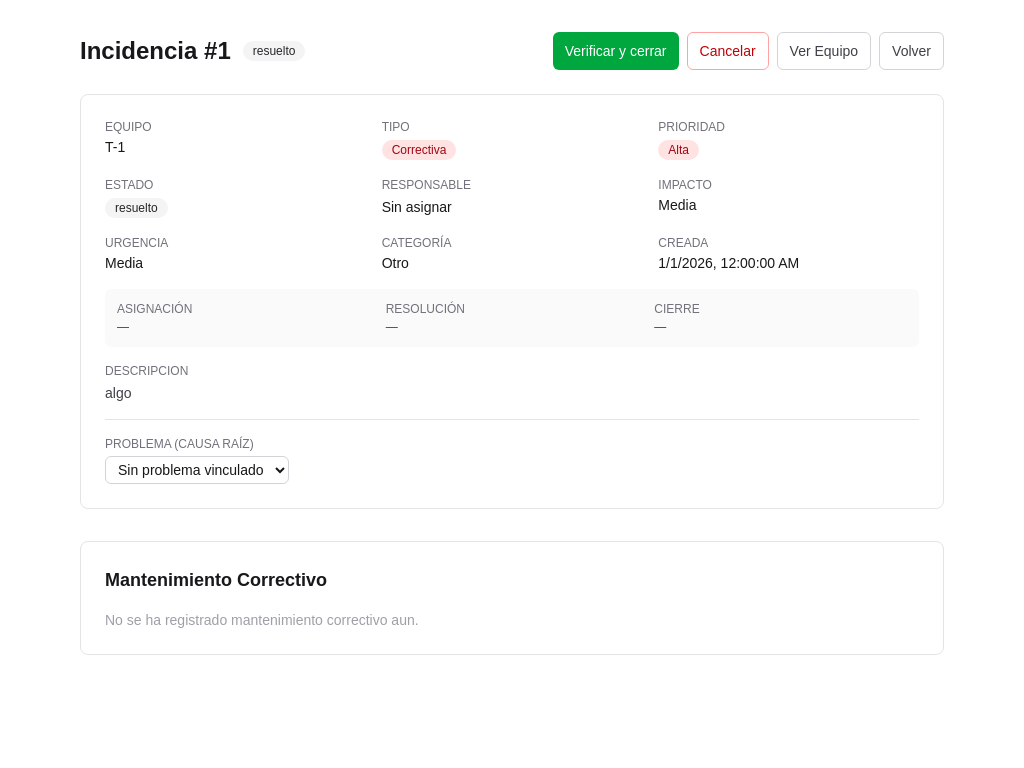
Test: IncidenciaDetailPage › surfaces an error message when cerrar fails
Click the button "Verificar y cerrar": {"x": 616, "y": 51} [553, 32, 678, 70]
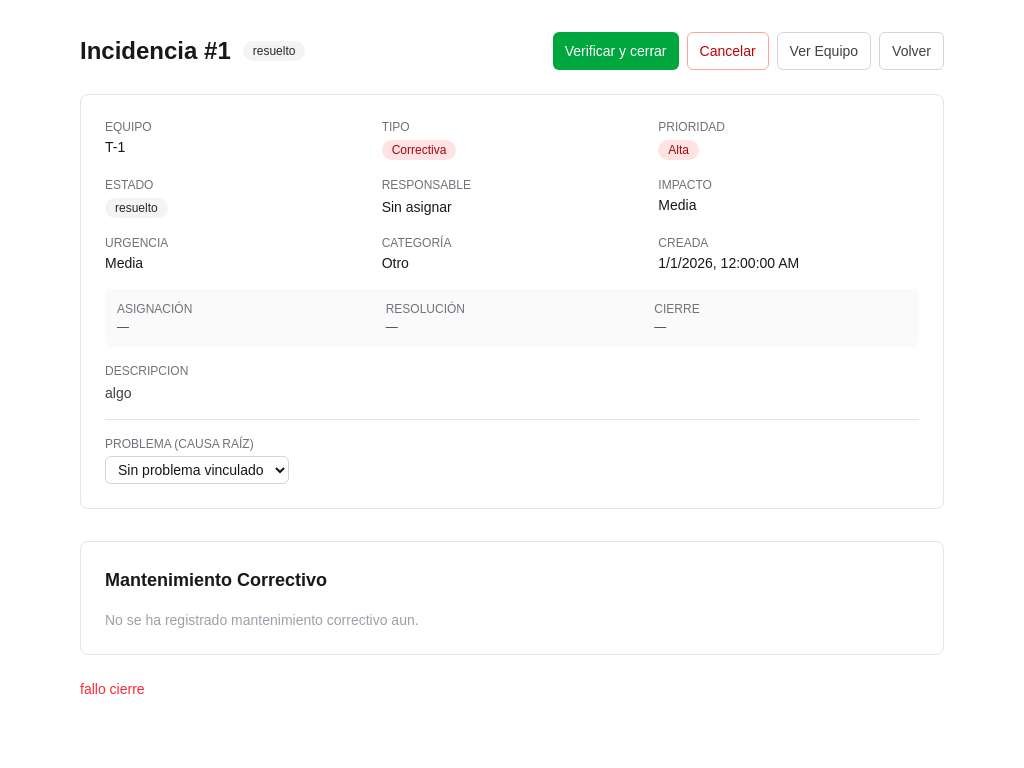
Now the text "fallo cierre" is shown, box [80, 679, 145, 699]
